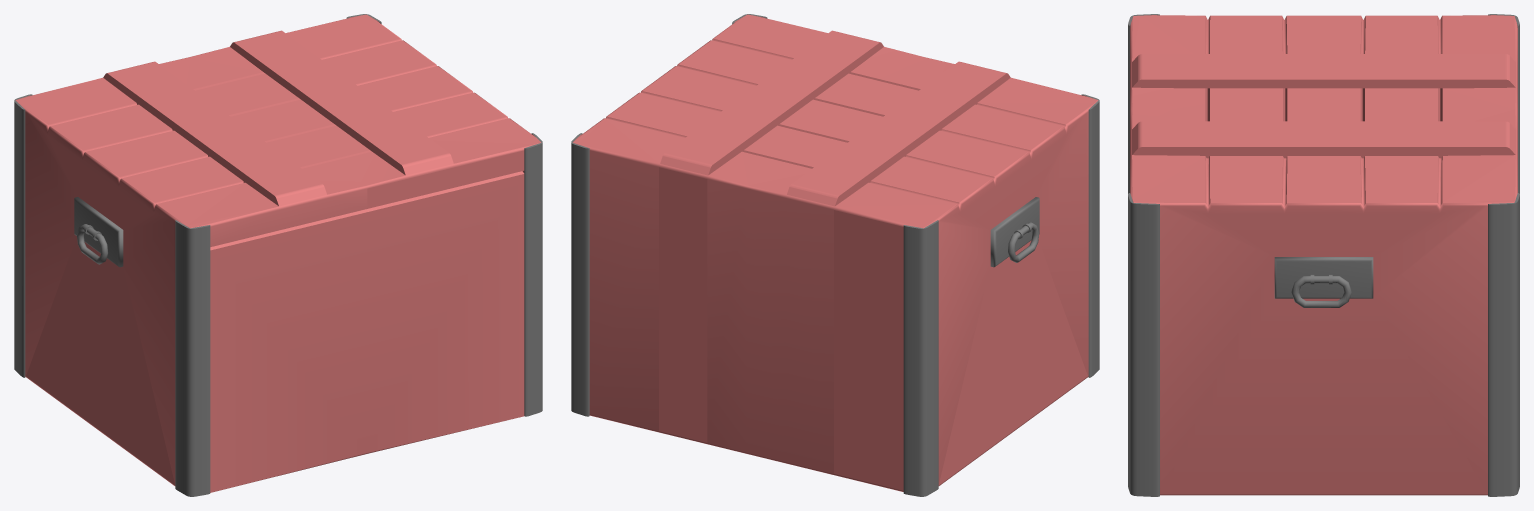
The model's file is SM_CaisseCaree.fbx.
3 views of the same model, side by side, from view 1: azimuth 30°, elevation 25°; view 2: azimuth 150°, elevation 25°; view 3: azimuth 270°, elevation 25° (orthographic). The views are drawn at different scales.
Visible parts, largest first — view 1: Box094; view 2: Box094; view 3: Box094.
Boxes of the visible parts, x1,y1,x2,y2 form: Box094: (14,14,542,496); Box094: (571,14,1099,496); Box094: (1128,14,1519,496).
Bounding box in the file's own units: 124 × 85.48 × 101.
